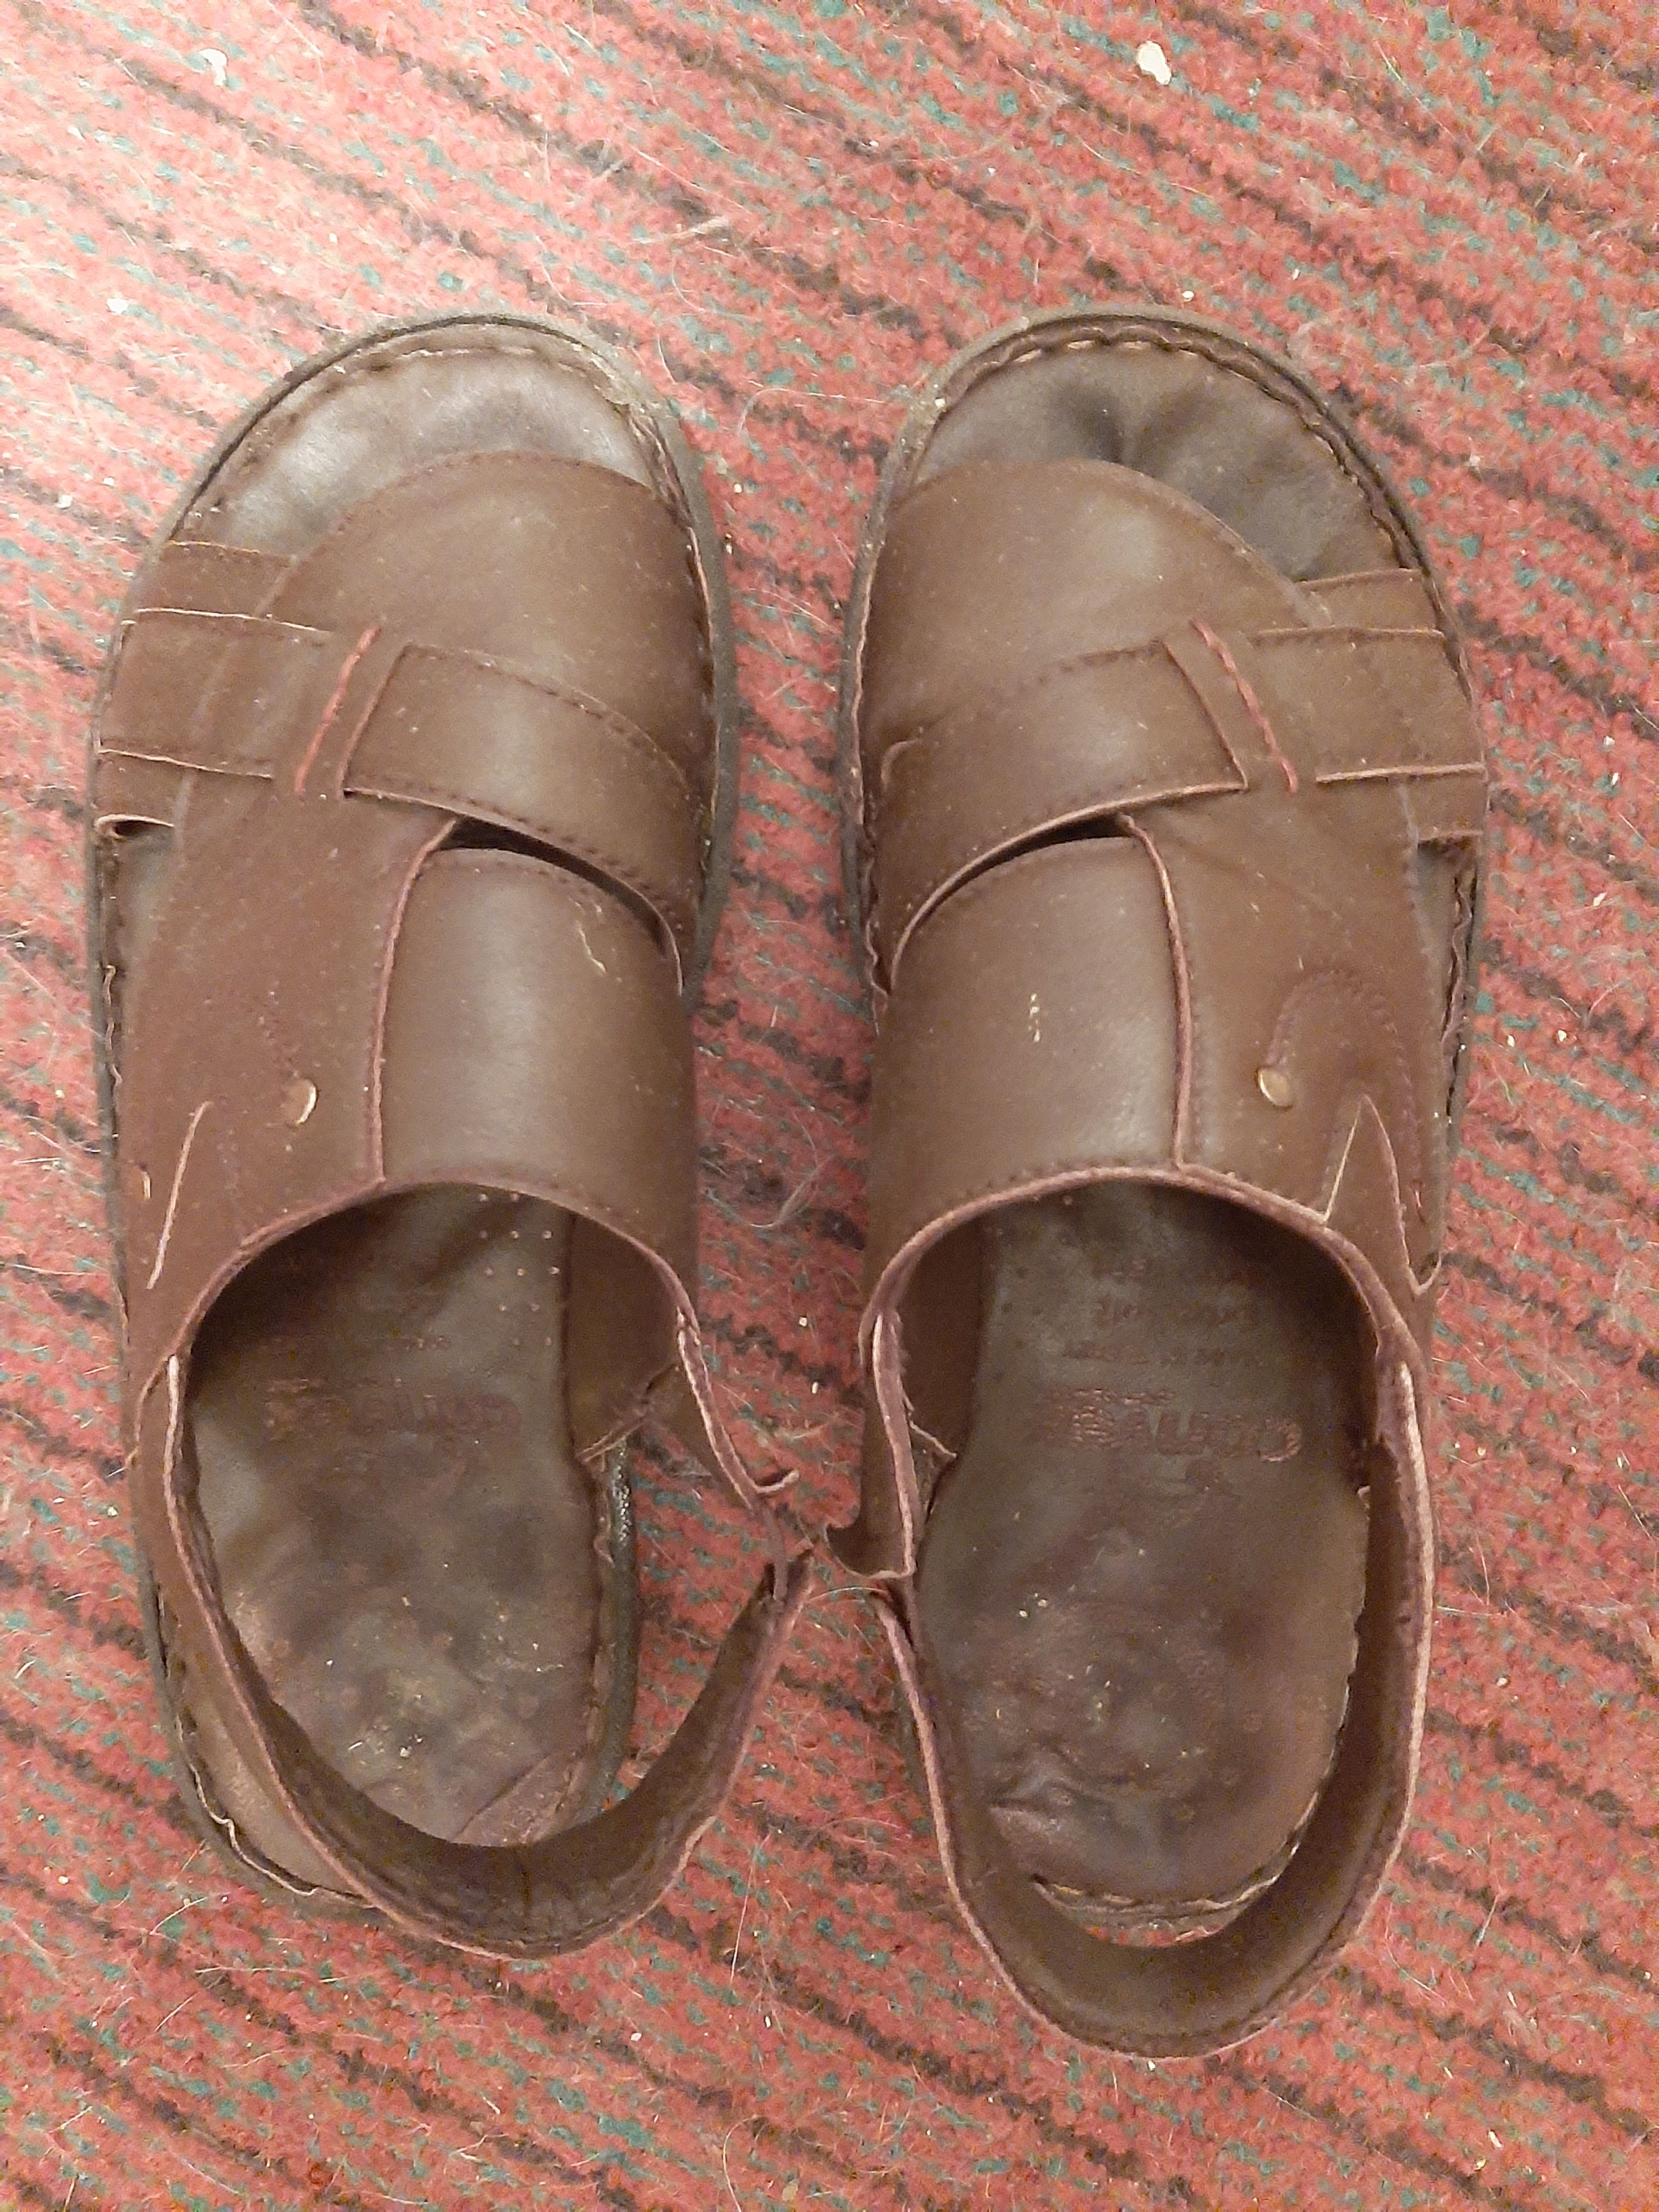clothes: (816, 298, 1506, 2078), (75, 266, 742, 1979)
